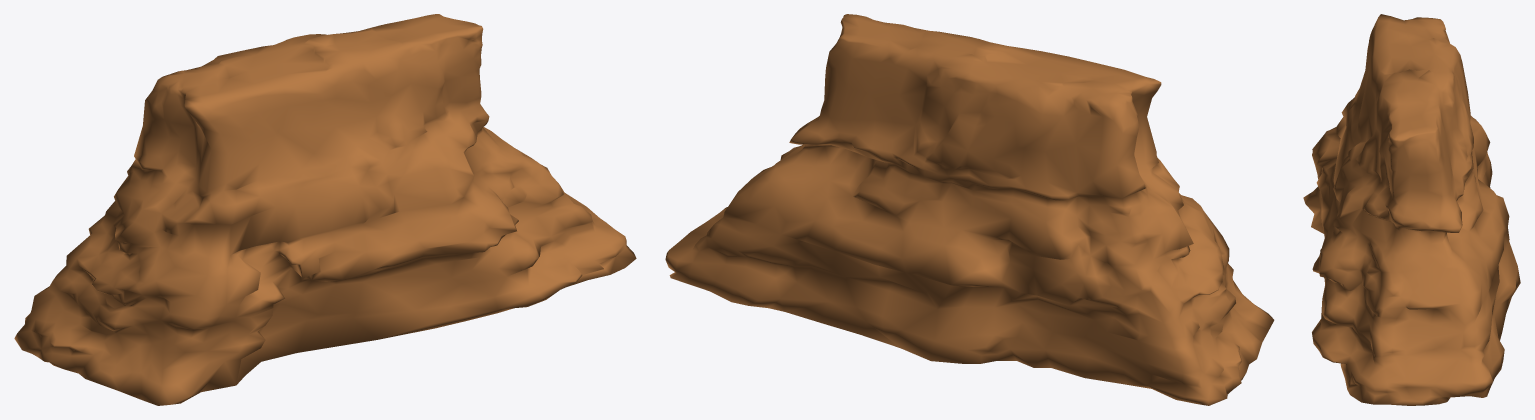
Rendered from MSH_Rocks_Cliff_14_d.FBX.
The picture shows the model from 3 angles, left to right: view 1: azimuth 30°, elevation 25°; view 2: azimuth 150°, elevation 25°; view 3: azimuth 270°, elevation 25°; orthographic projection. The views are drawn at different scales.
Visible parts, largest first — view 1: MESH_LOD0; view 2: MESH_LOD0; view 3: MESH_LOD0.
Boxes of the visible parts, left/top/right/bottom form: MESH_LOD0: left=14, top=14, right=636, bottom=405; MESH_LOD0: left=665, top=14, right=1274, bottom=405; MESH_LOD0: left=1303, top=14, right=1520, bottom=405.
Size of what is drawn, in the model's own units: 854 by 382 by 343.
